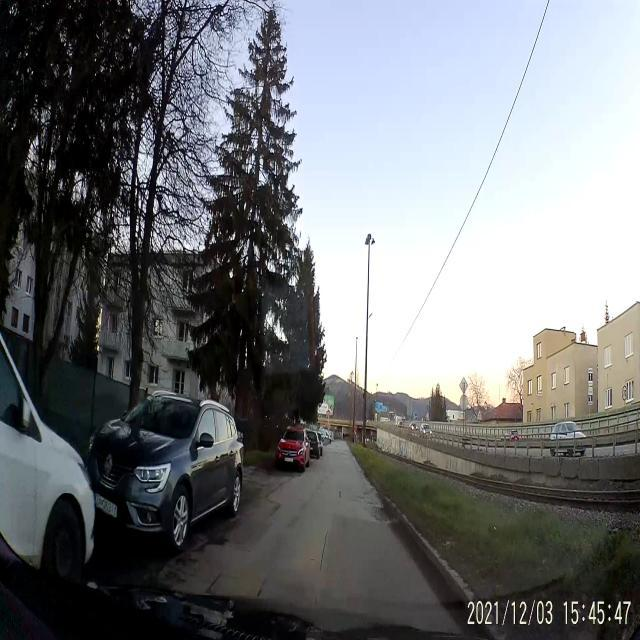Pothole: (368, 501, 390, 528), (362, 488, 376, 501)
